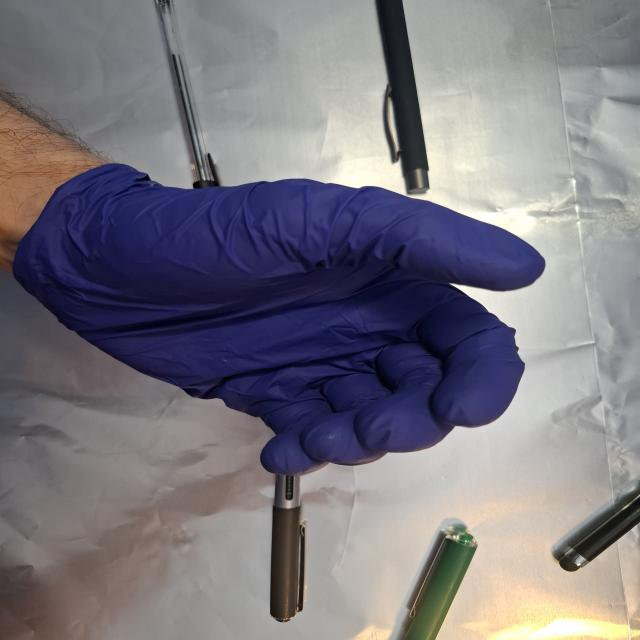glove_on: (12, 163, 553, 478)
